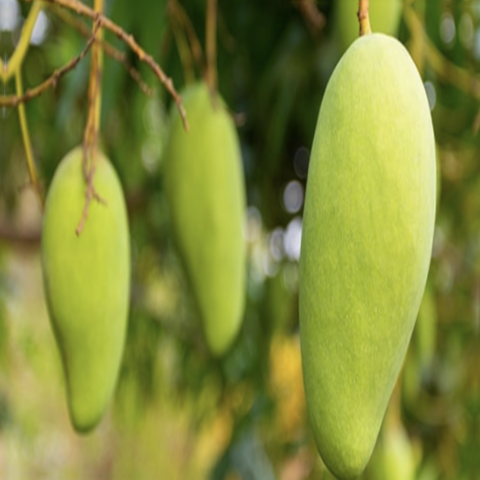mango: (272, 17, 465, 480), (145, 71, 263, 376), (25, 135, 138, 442)
